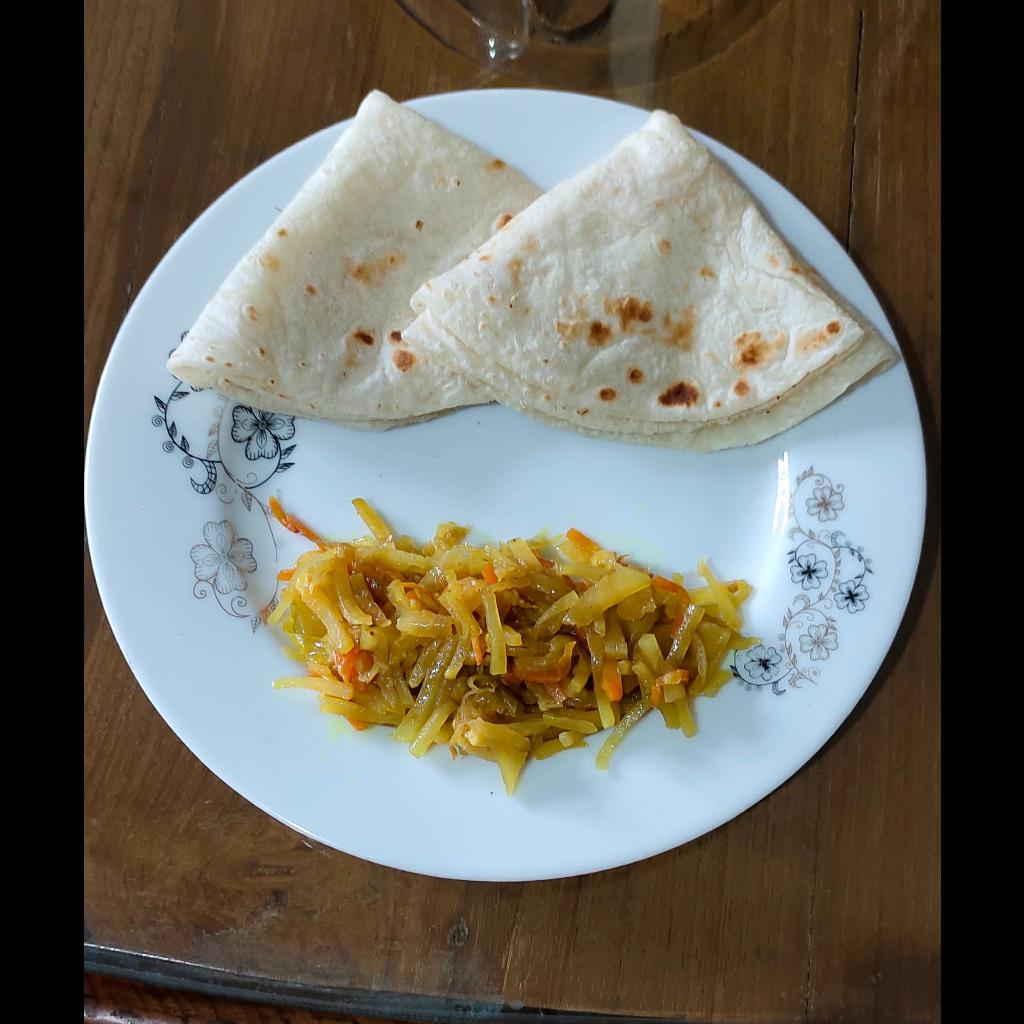ruti: (162, 85, 893, 453)
vaji: (259, 487, 743, 801)
